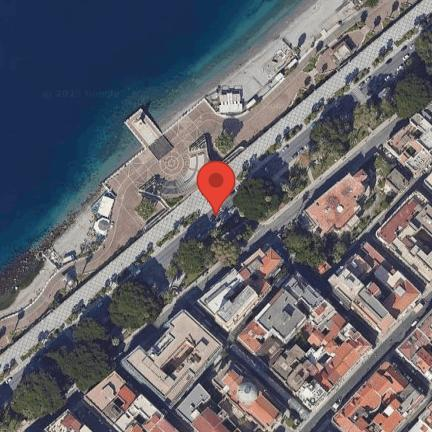area_open: (0, 7, 430, 395)
built: (190, 245, 378, 408), (128, 314, 231, 407), (323, 247, 421, 341), (176, 364, 287, 432), (330, 364, 420, 431), (85, 374, 186, 431), (376, 192, 432, 289), (294, 171, 371, 237), (389, 306, 431, 378), (390, 114, 432, 186), (43, 408, 92, 429), (379, 168, 409, 195), (412, 404, 432, 431)
vegetation_high: (4, 31, 430, 426), (276, 226, 354, 278)
water: (3, 4, 301, 279)
